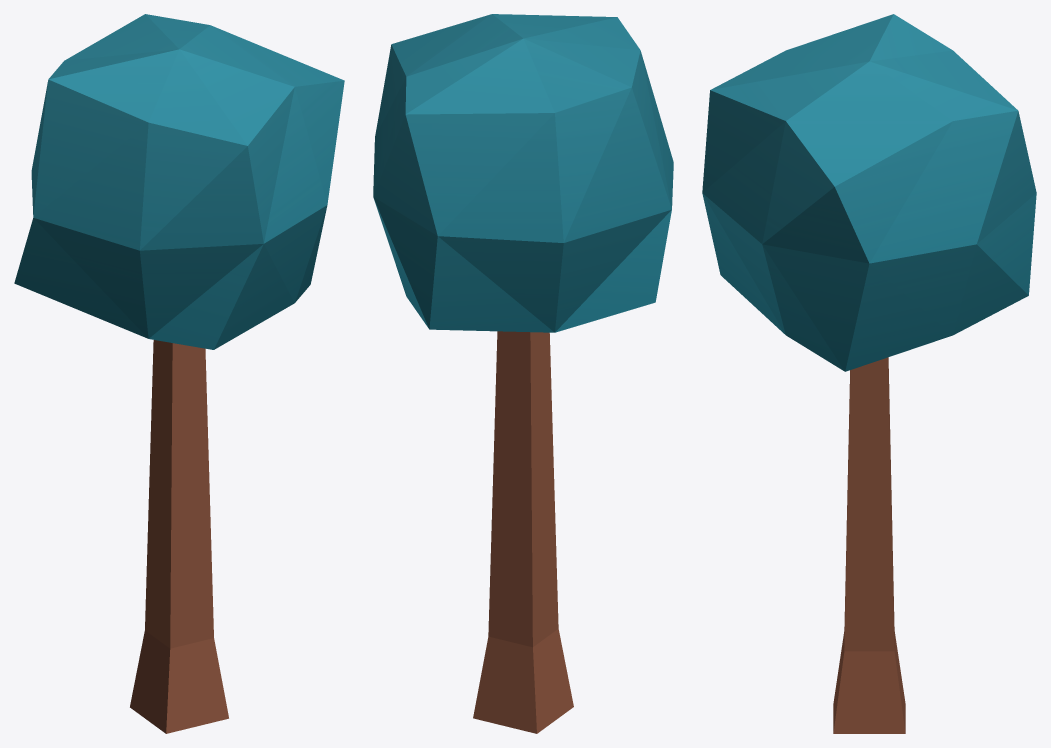
The model's file is Tree_42_gradient_blue_pal.fbx.
3 renders of one model, left to right at view 1: azimuth 30°, elevation 25°; view 2: azimuth 150°, elevation 25°; view 3: azimuth 270°, elevation 25°, orthographic. The views are drawn at different scales.
Visible parts, largest first — view 1: Tree_42_gradient_blue_pal; view 2: Tree_42_gradient_blue_pal; view 3: Tree_42_gradient_blue_pal.
Boxes of the visible parts, left/top/right/bottom form: Tree_42_gradient_blue_pal: left=14, top=14, right=344, bottom=733; Tree_42_gradient_blue_pal: left=373, top=14, right=673, bottom=733; Tree_42_gradient_blue_pal: left=702, top=14, right=1036, bottom=733.
Bounding box in the file's own units: 98.78 × 212 × 97.79.
